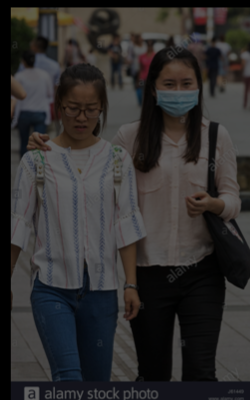with_mask: (154, 75, 200, 117)
without_mask: (58, 97, 101, 140)
